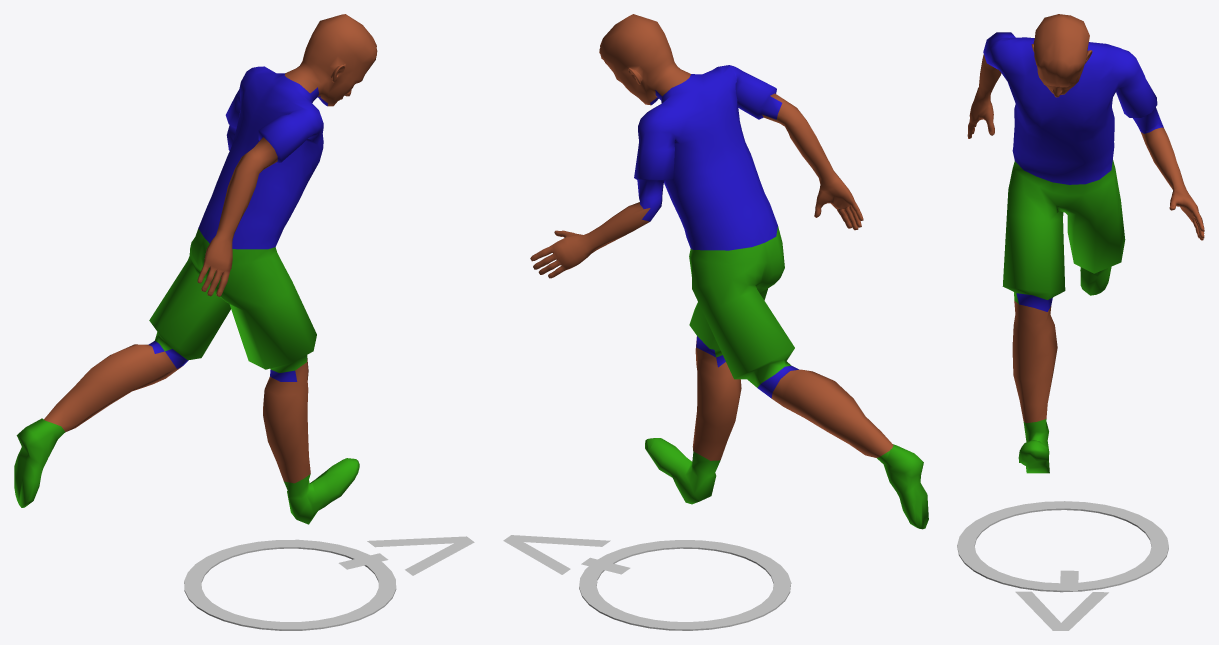
Rendered from playerAI_000001.obj.
3 views of the same model, side by side, from view 1: azimuth 30°, elevation 25°; view 2: azimuth 150°, elevation 25°; view 3: azimuth 270°, elevation 25° (orthographic).
Visible parts, largest first — view 1: soccerplayer.003_mesh.002, Circle.001, Text_Mesh; view 2: soccerplayer.003_mesh.002, Circle.001, Text_Mesh; view 3: soccerplayer.003_mesh.002, Circle.001, Text_Mesh.
Boxes of the visible parts, x1,y1,x2,y2 form: soccerplayer.003_mesh.002: [14, 14, 377, 524]; Circle.001: [184, 539, 396, 630]; Text_Mesh: [338, 536, 474, 575]; soccerplayer.003_mesh.002: [530, 14, 928, 529]; Circle.001: [579, 540, 791, 630]; Text_Mesh: [503, 535, 630, 574]; soccerplayer.003_mesh.002: [967, 14, 1204, 473]; Circle.001: [957, 501, 1168, 592]; Text_Mesh: [1015, 570, 1108, 630].
Bounding box in the file's own units: 2.56 × 3.15 × 1.27.
